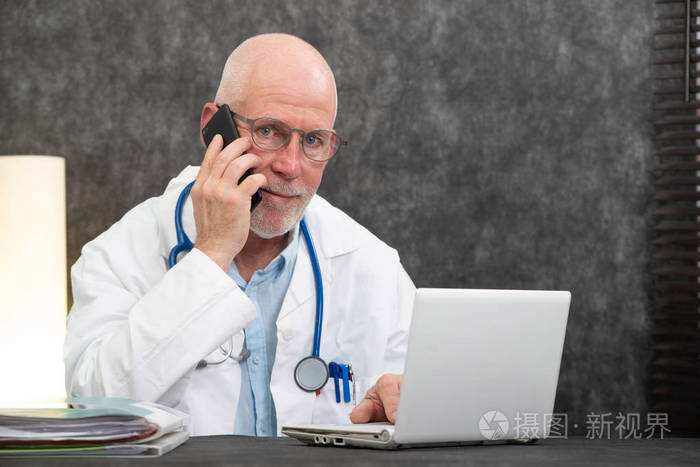calling: (188, 101, 268, 253)
